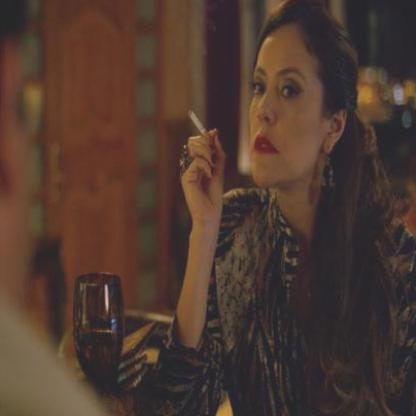cigarette: (185, 109, 209, 139)
person: (216, 0, 414, 415)
